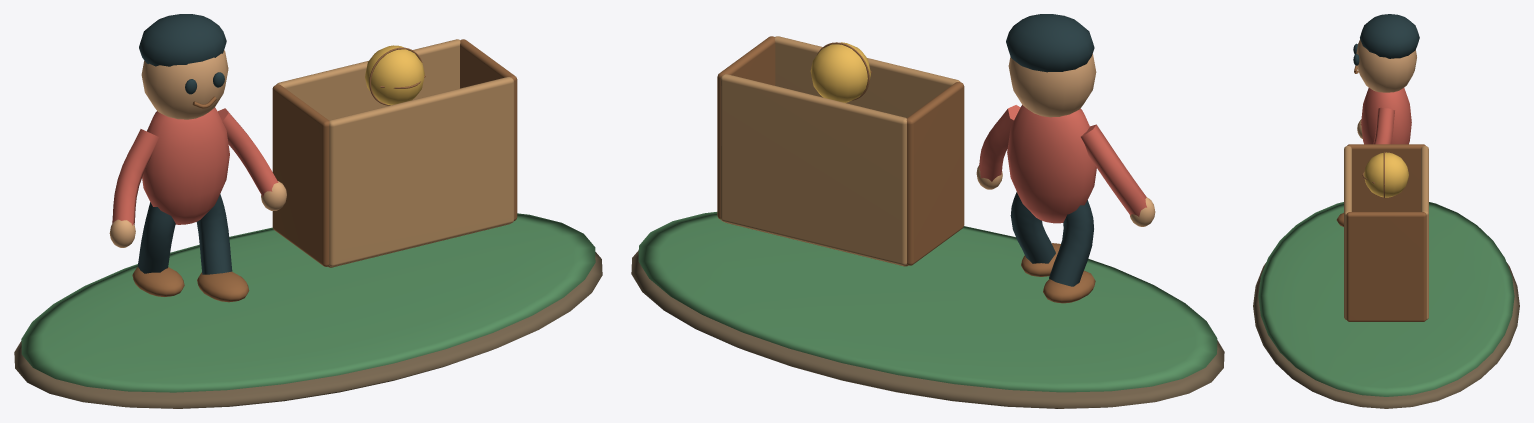
The model's file is child-box.glb.
The picture shows the model from 3 angles, left to right: view 1: azimuth 30°, elevation 25°; view 2: azimuth 150°, elevation 25°; view 3: azimuth 270°, elevation 25°; orthographic projection. The views are drawn at different scales.
Visible parts, largest first — view 1: child-box_surface_01, child-box_surface_02, child-box_surface_03, child-box_surface_06, child-box_surface_00, child-box_surface_05, child-box_surface_04, child-box_surface_07; view 2: child-box_surface_01, child-box_surface_02, child-box_surface_03, child-box_surface_06, child-box_surface_00, child-box_surface_05, child-box_surface_04, child-box_surface_07; view 3: child-box_surface_01, child-box_surface_03, child-box_surface_00, child-box_surface_06, child-box_surface_05, child-box_surface_04, child-box_surface_02, child-box_surface_07.
Boxes of the visible parts, x1,y1,x2,y2 form: child-box_surface_01: [21, 213, 595, 392]; child-box_surface_02: [276, 39, 514, 266]; child-box_surface_03: [132, 39, 517, 302]; child-box_surface_06: [112, 107, 278, 225]; child-box_surface_00: [14, 252, 602, 408]; child-box_surface_05: [137, 14, 232, 274]; child-box_surface_04: [109, 50, 286, 247]; child-box_surface_07: [365, 45, 424, 105]; child-box_surface_01: [638, 212, 1217, 392]; child-box_surface_02: [720, 36, 960, 265]; child-box_surface_03: [717, 36, 1095, 303]; child-box_surface_06: [979, 105, 1146, 223]; child-box_surface_00: [631, 250, 1224, 408]; child-box_surface_05: [1006, 14, 1094, 286]; child-box_surface_04: [976, 53, 1155, 226]; child-box_surface_07: [810, 42, 870, 102]; child-box_surface_01: [1258, 202, 1514, 396]; child-box_surface_03: [1336, 65, 1426, 321]; child-box_surface_00: [1253, 262, 1519, 408]; child-box_surface_06: [1360, 87, 1411, 144]; child-box_surface_05: [1353, 14, 1419, 65]; child-box_surface_04: [1356, 39, 1416, 138]; child-box_surface_02: [1344, 146, 1428, 319]; child-box_surface_07: [1364, 152, 1408, 197].
Bounding box in the file's own units: 4.56 × 2.64 × 2.5.
